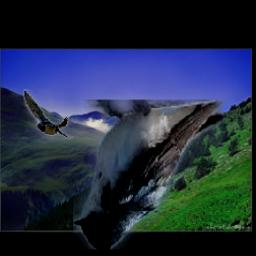Swallow: (74, 100, 226, 250), (23, 90, 74, 140)
